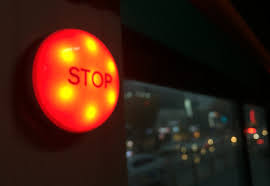bell: (28, 25, 122, 142)
